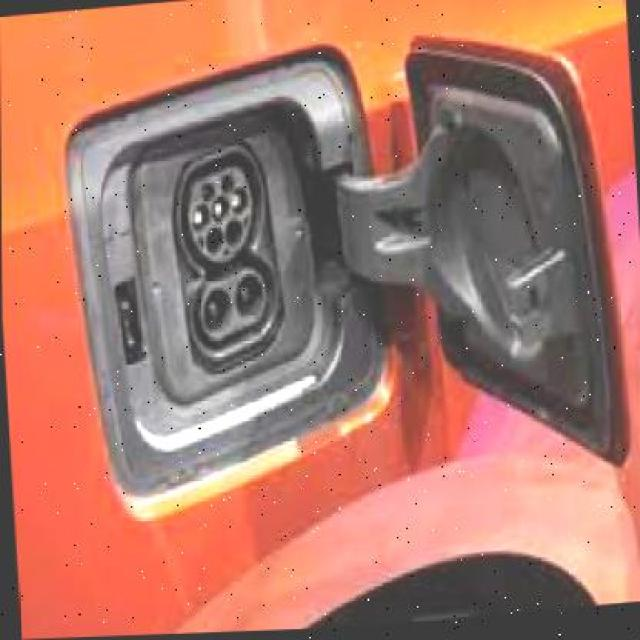CCS2: (160, 142, 312, 369)
